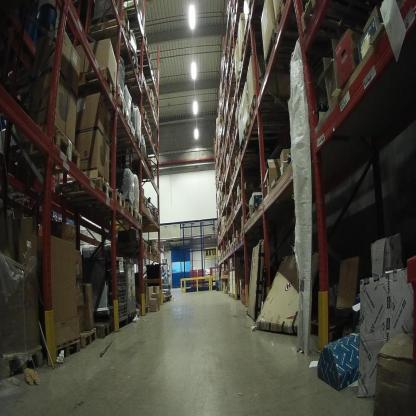pallet: (4, 126, 85, 182), (237, 135, 288, 209), (264, 32, 321, 78), (301, 3, 371, 40), (66, 60, 119, 103), (248, 95, 317, 128), (55, 175, 114, 207), (2, 346, 46, 385), (83, 19, 133, 49), (92, 112, 140, 142), (243, 119, 304, 141), (238, 39, 281, 70), (243, 16, 277, 50), (68, 164, 116, 186), (100, 8, 134, 39), (108, 130, 145, 157), (107, 47, 139, 78), (276, 2, 303, 37), (123, 158, 156, 182), (109, 237, 149, 255), (87, 320, 113, 345), (53, 338, 79, 362), (121, 66, 143, 94), (235, 70, 259, 93), (80, 326, 97, 353), (131, 100, 148, 125), (139, 64, 161, 83), (136, 113, 152, 139), (132, 31, 153, 50), (138, 78, 160, 96), (120, 93, 131, 122), (136, 84, 152, 103), (233, 113, 244, 138), (134, 49, 152, 64), (114, 188, 126, 209), (239, 229, 254, 243), (126, 202, 136, 222), (134, 209, 145, 226), (136, 195, 150, 207), (139, 306, 151, 318), (151, 243, 159, 257), (233, 293, 244, 303), (236, 154, 243, 169), (164, 294, 173, 304), (228, 293, 234, 302)
pallet_truck: (216, 263, 222, 293), (214, 260, 217, 287)
stillage: (96, 254, 128, 325)
